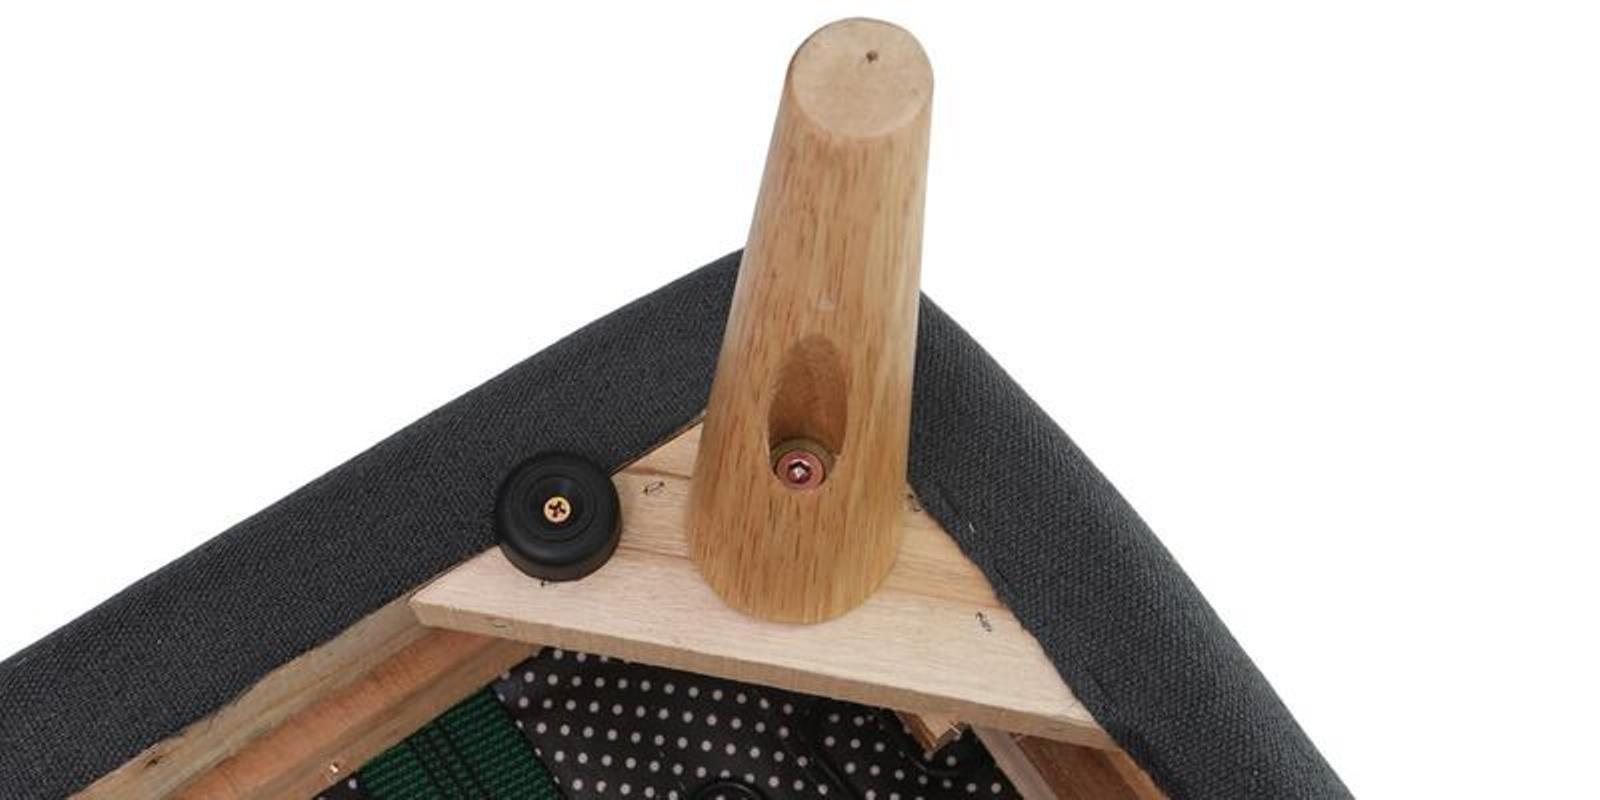Gloria Three Seater Sofa with Ottoman in Beige Colour by CasaCraft: (3, 6, 1401, 800)
